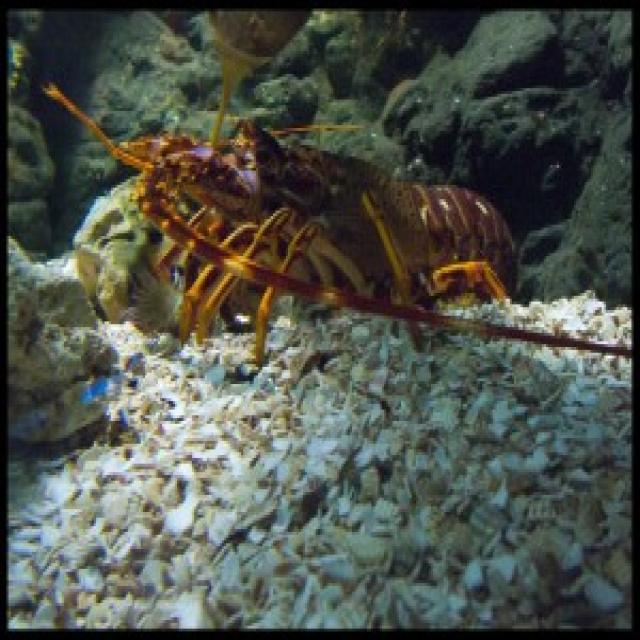lobsters: (71, 21, 585, 417)
